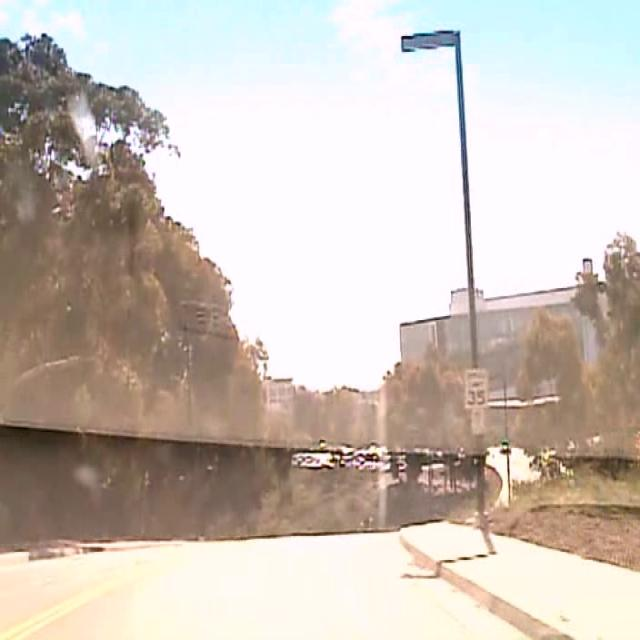speedLimit35: (464, 366, 488, 411)
